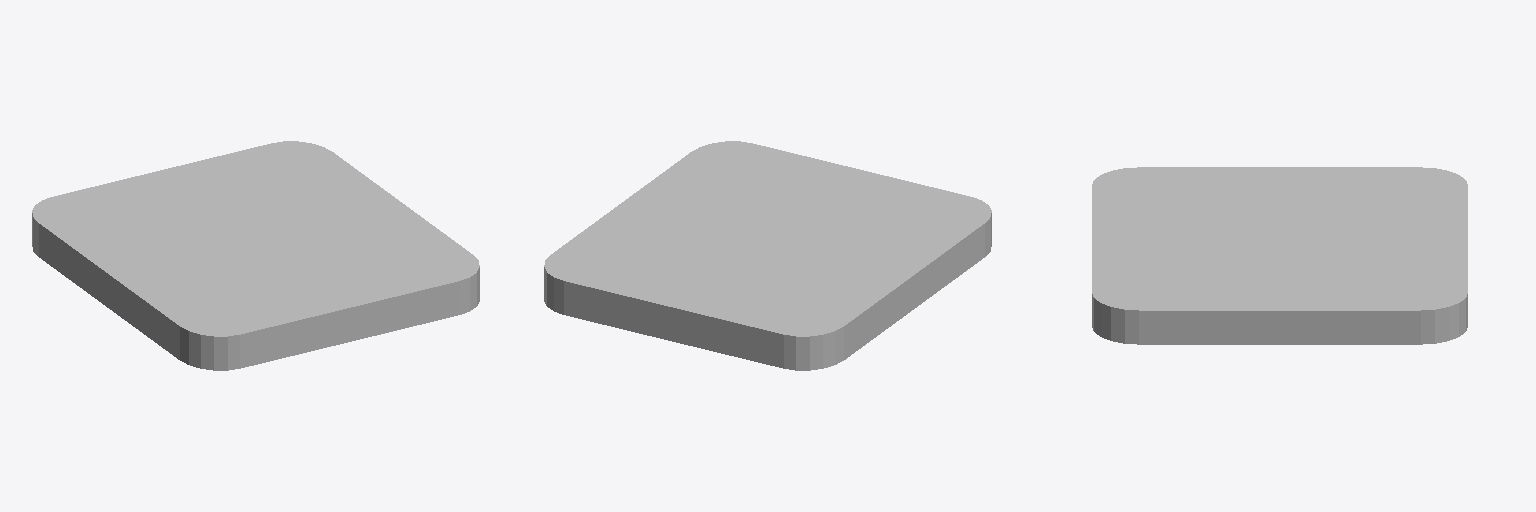
File: button.obj
3 renders of one model, left to right at view 1: azimuth 30°, elevation 25°; view 2: azimuth 150°, elevation 25°; view 3: azimuth 270°, elevation 25°, orthographic.
Visible parts, largest first — view 1: Cube; view 2: Cube; view 3: Cube.
Part boxes in pixels (x1,y1,x2,y2): Cube: (32,141,479,370); Cube: (544,141,991,370); Cube: (1092,167,1467,344).
Size of the model in its own units: 1.8 by 0.2 by 2.